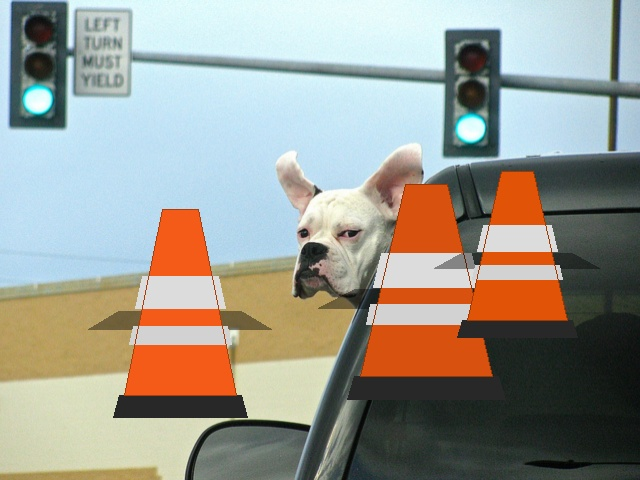traffic-cone: (347, 184, 505, 399), (113, 209, 247, 417), (457, 171, 577, 337)
